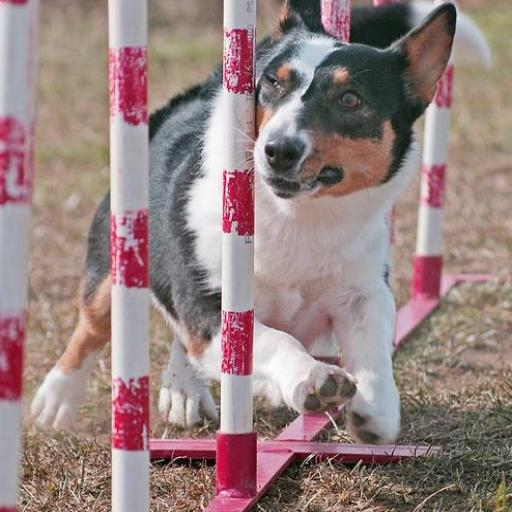dog_face: (250, 6, 461, 195)
